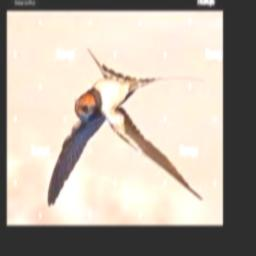Swallow: (47, 48, 204, 207)
